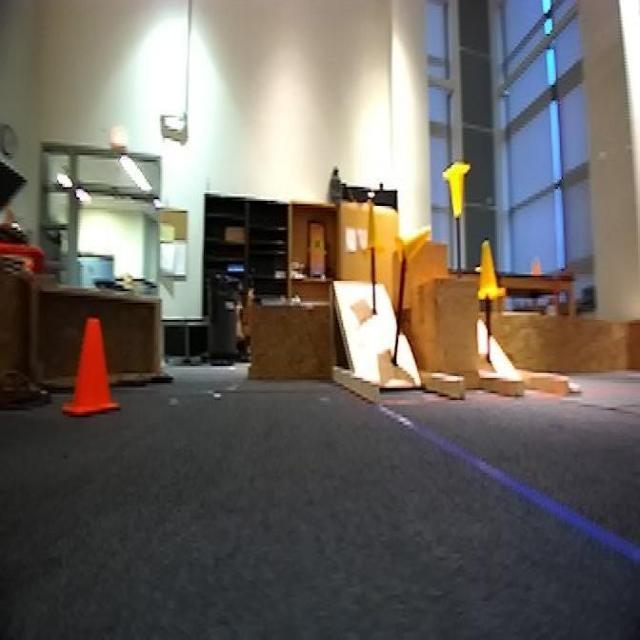frc_cone: (395, 222, 430, 268), (443, 157, 470, 216), (475, 242, 500, 301), (365, 206, 384, 252)
